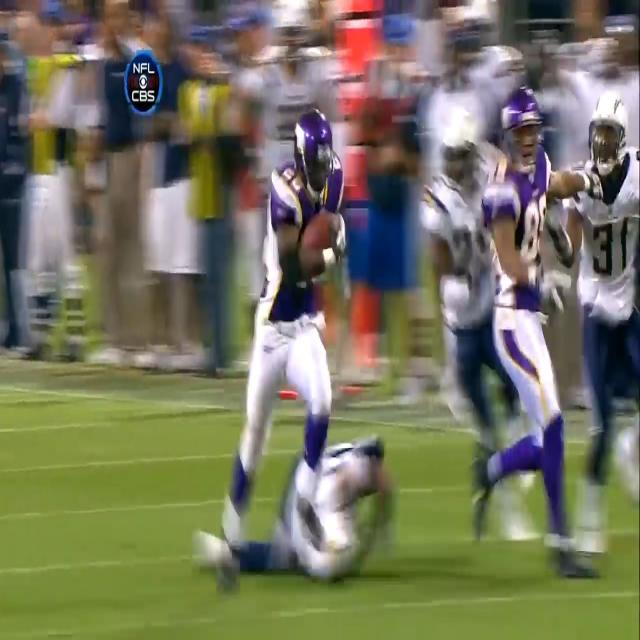football: (302, 212, 339, 263)
players: (471, 86, 602, 577), (218, 108, 346, 593), (419, 105, 538, 495), (553, 93, 640, 553), (194, 433, 394, 580)
